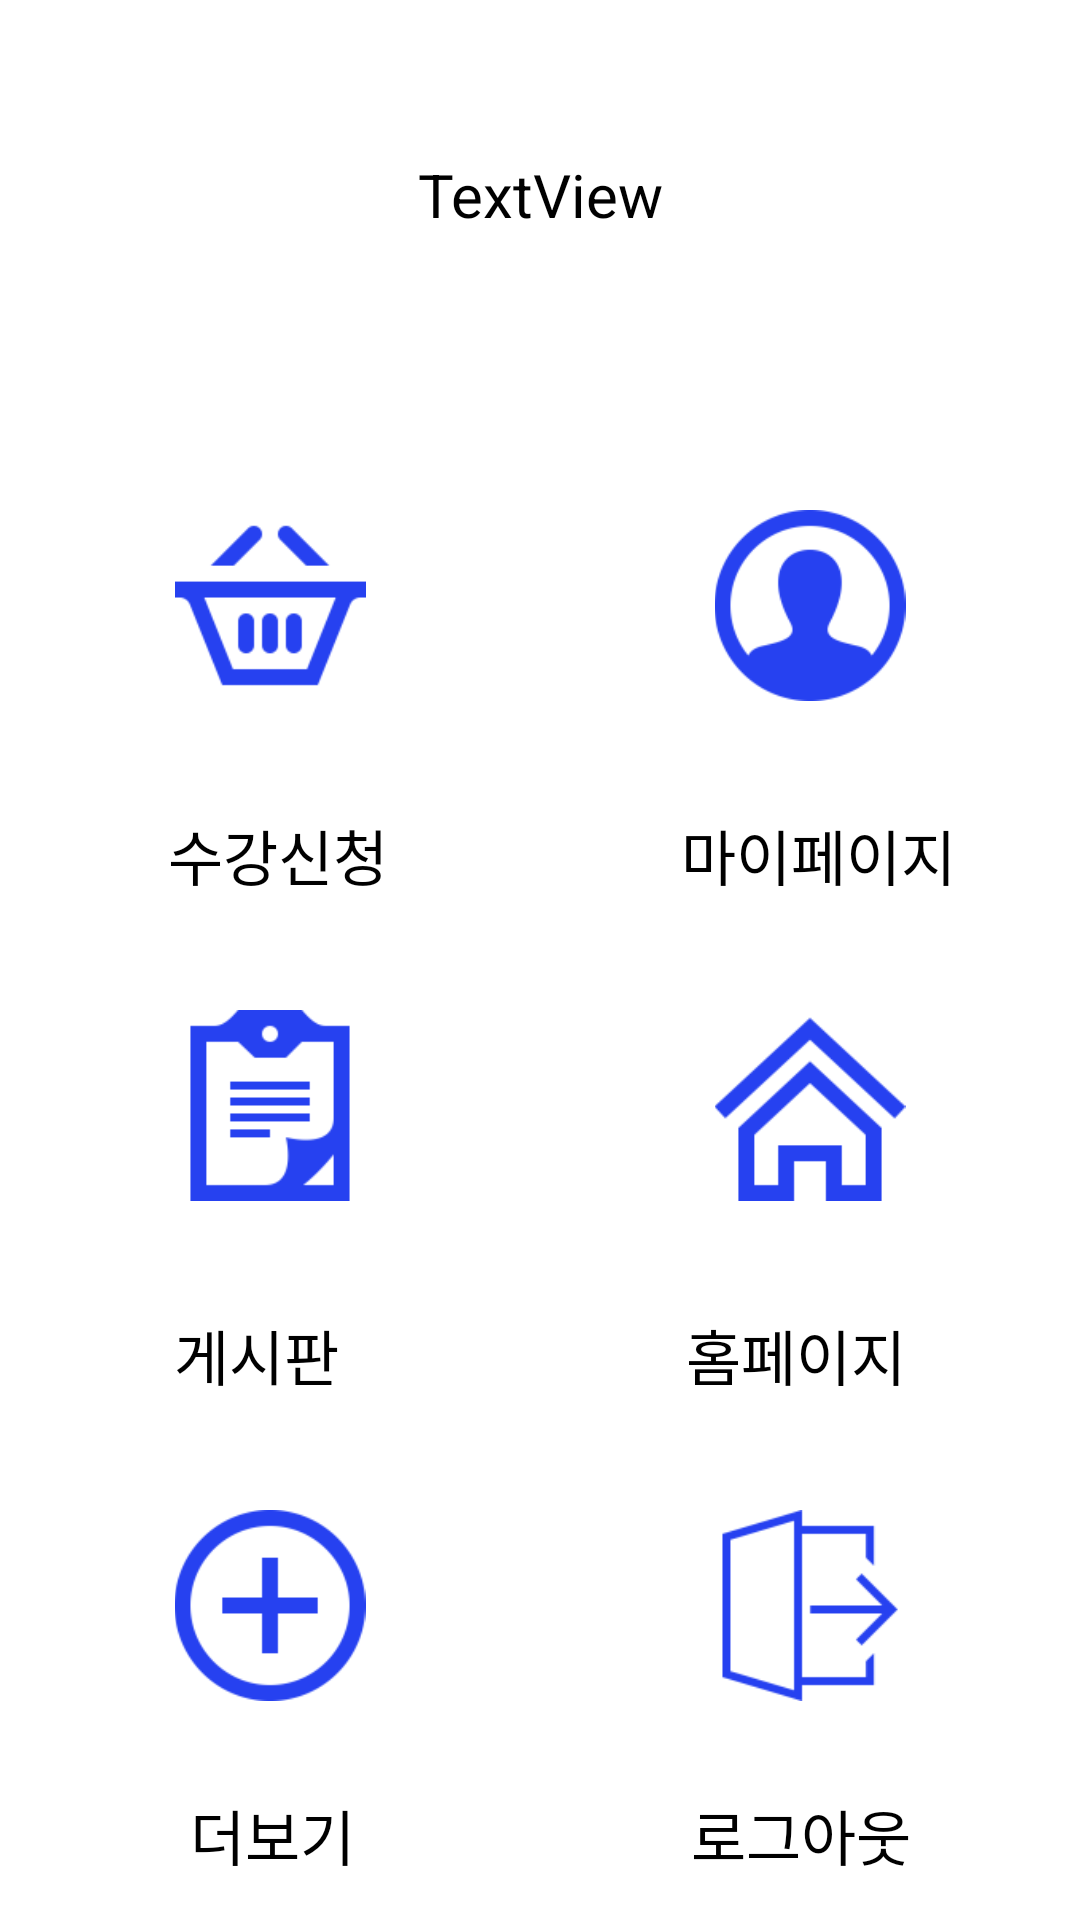

Named icons in this screenshot (1080px×1920px) and their centers, (x,y):
home: (810,1109)
mypage: (810,605)
note: (270,1105)
plus: (270,1605)
sugang: (270,605)
